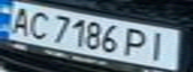1: (66, 16, 87, 48)
6: (100, 21, 127, 55)
7: (45, 12, 72, 45)
8: (84, 19, 106, 52)
A: (3, 3, 36, 36)
C: (24, 9, 54, 40)
I: (142, 29, 178, 62)
P: (121, 26, 154, 60)
